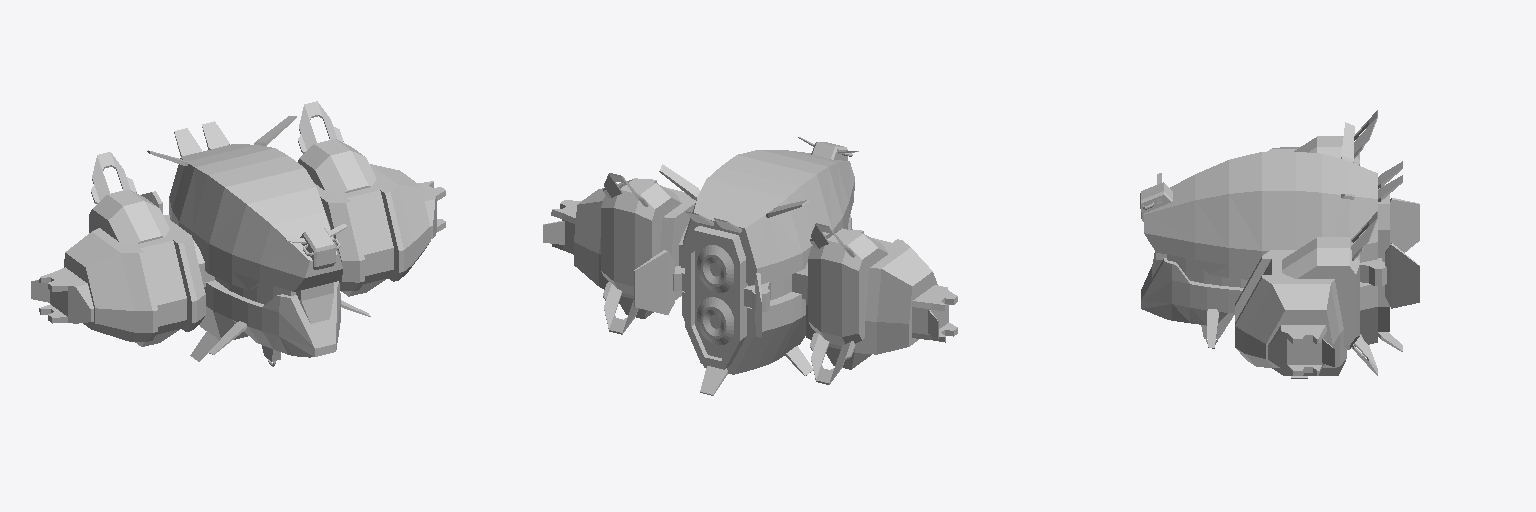
The model's file is OBJ_Dominator.obj.
3 views of the same model, side by side, from view 1: azimuth 30°, elevation 25°; view 2: azimuth 150°, elevation 25°; view 3: azimuth 270°, elevation 25° (orthographic).
Parts seen in each view (by area): view 1: MSH_YellowjacketsFrigateDominator.001; view 2: MSH_YellowjacketsFrigateDominator.001; view 3: MSH_YellowjacketsFrigateDominator.001.
Boxes of the visible parts, box(x1,y1,x2,y2) form: MSH_YellowjacketsFrigateDominator.001: box(31, 101, 445, 366); MSH_YellowjacketsFrigateDominator.001: box(543, 137, 957, 395); MSH_YellowjacketsFrigateDominator.001: box(1140, 110, 1419, 378).
Size of the model in its own units: 3.87 by 1.83 by 2.37.